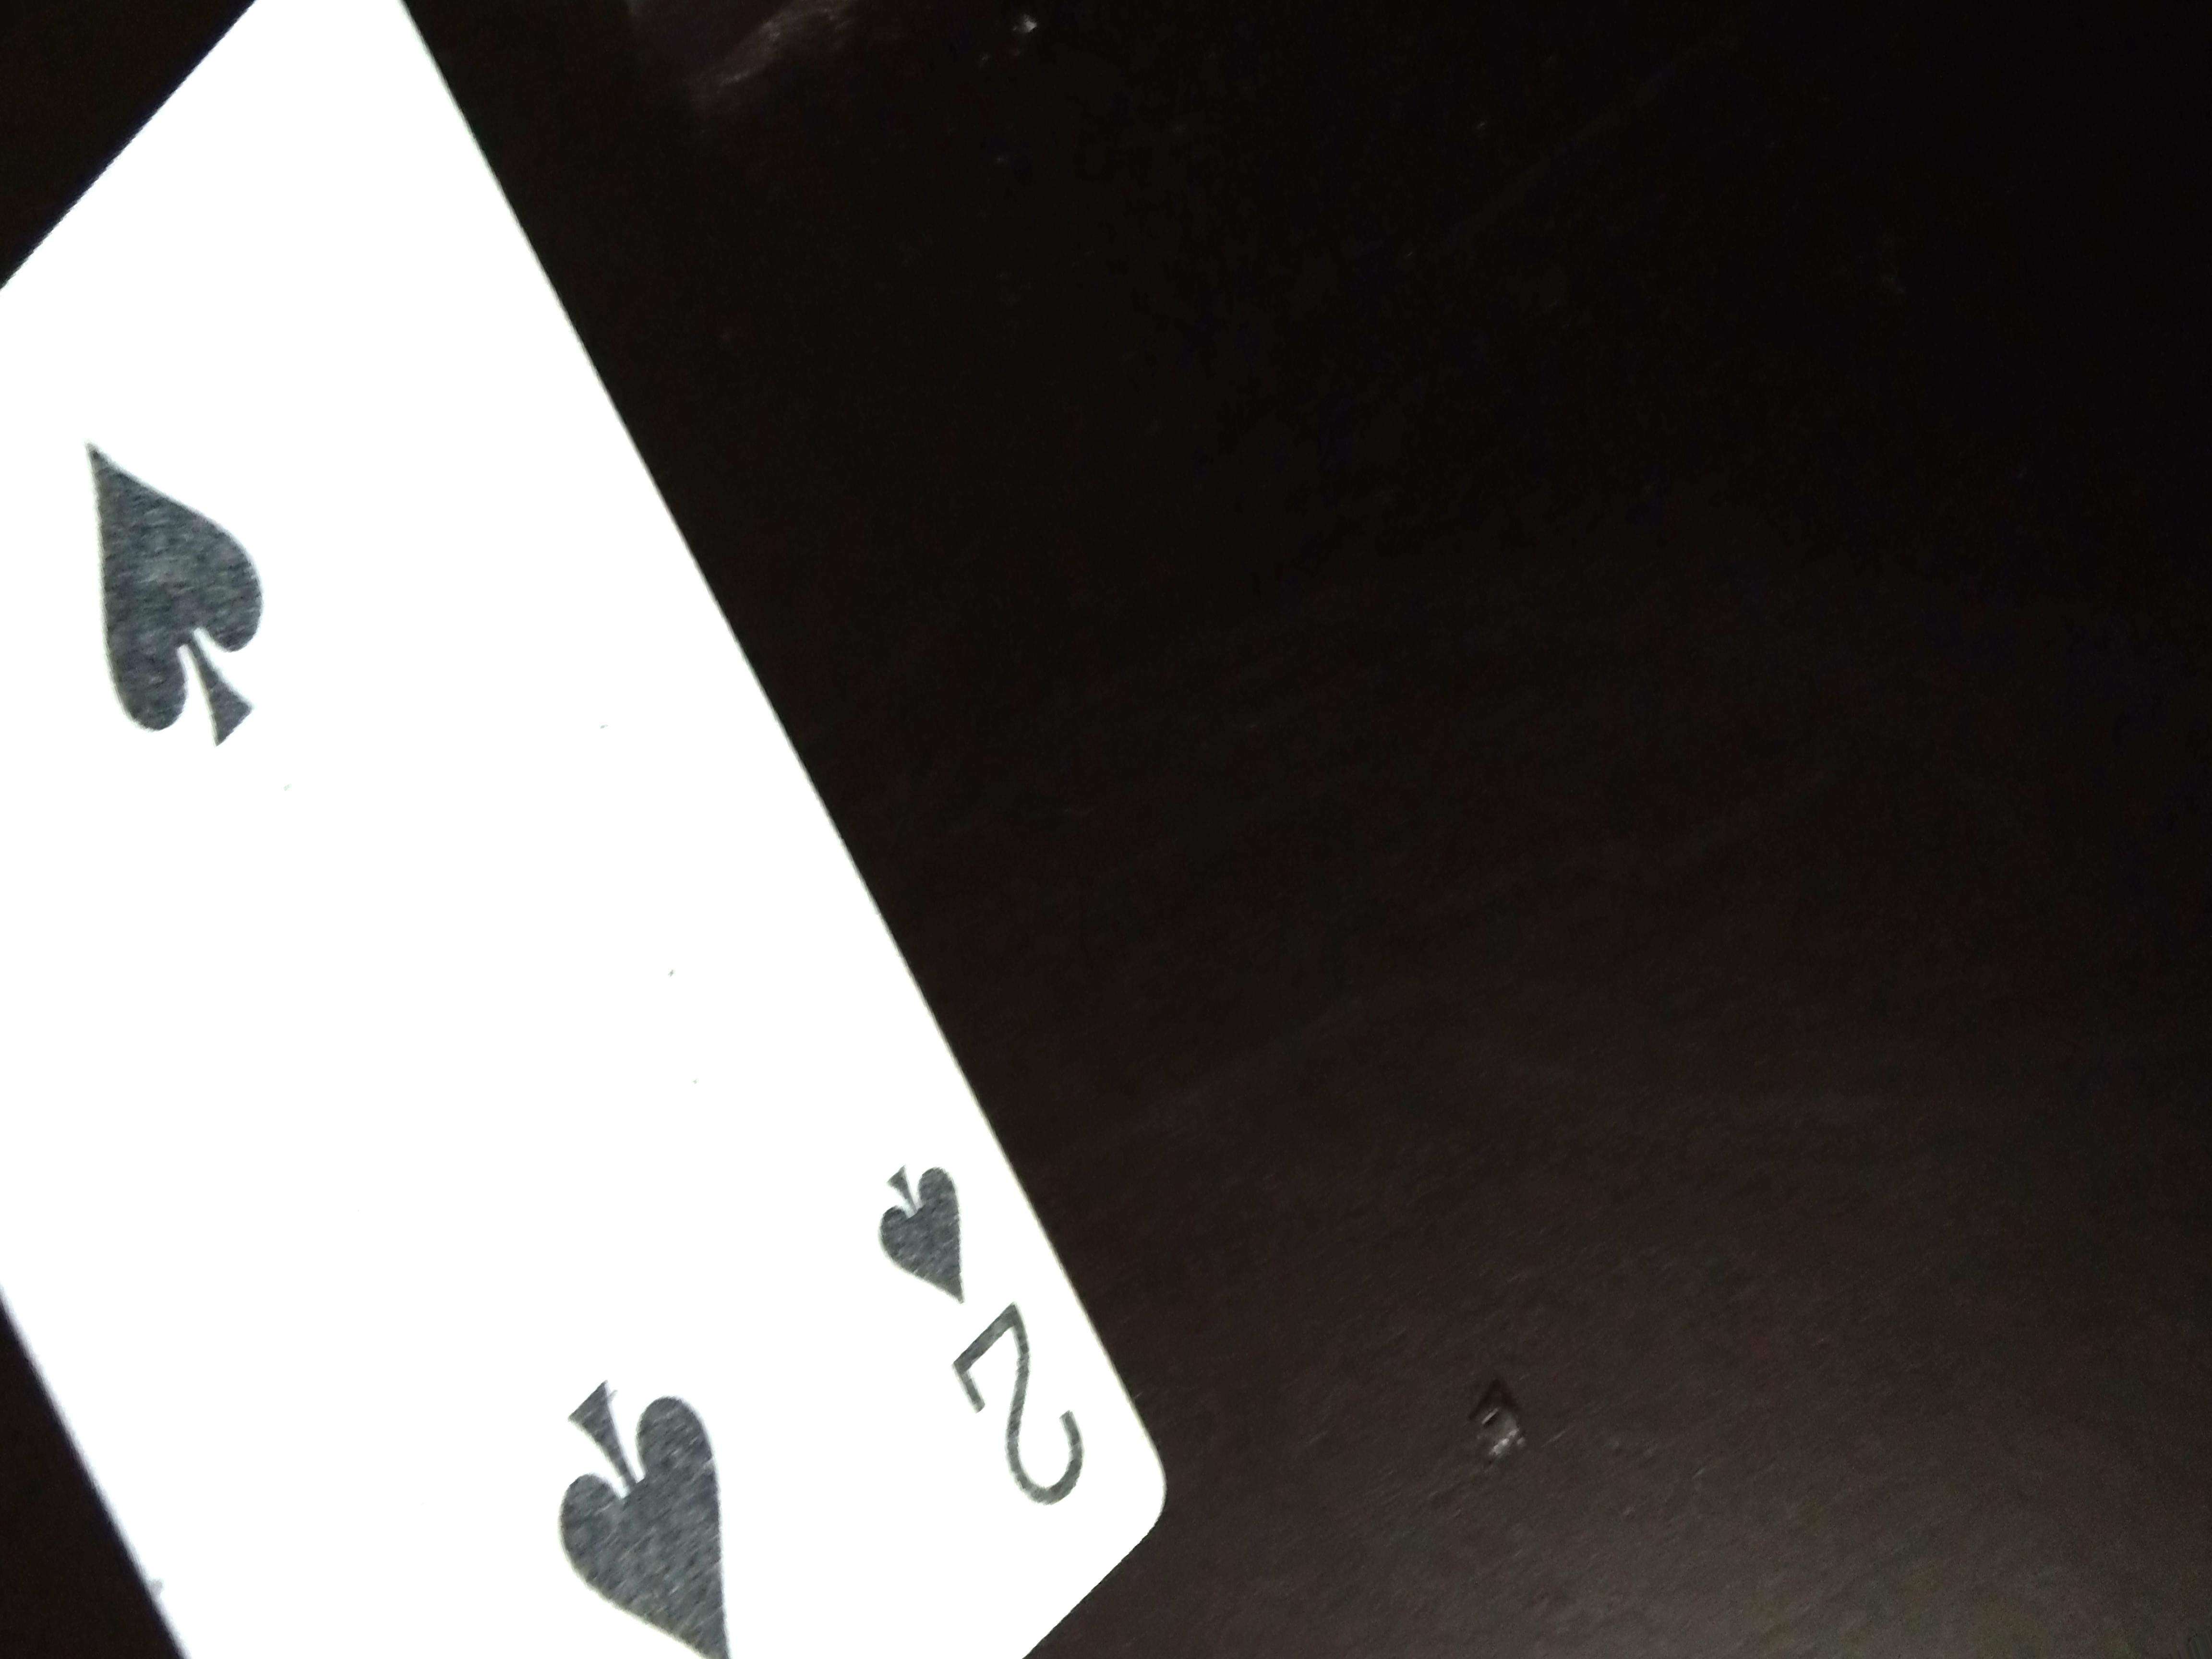2S: (836, 1141, 1113, 1521)
